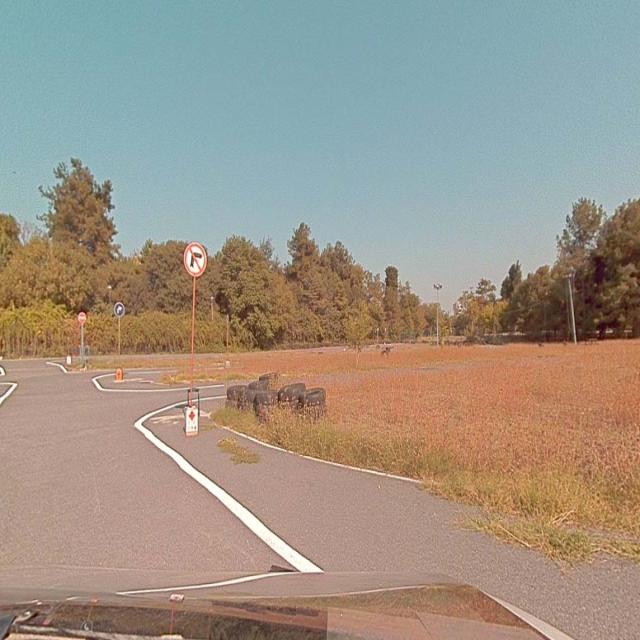girisyok: (78, 312, 86, 323)
sag: (114, 303, 124, 317)
sagadonulmez: (184, 242, 206, 276)
